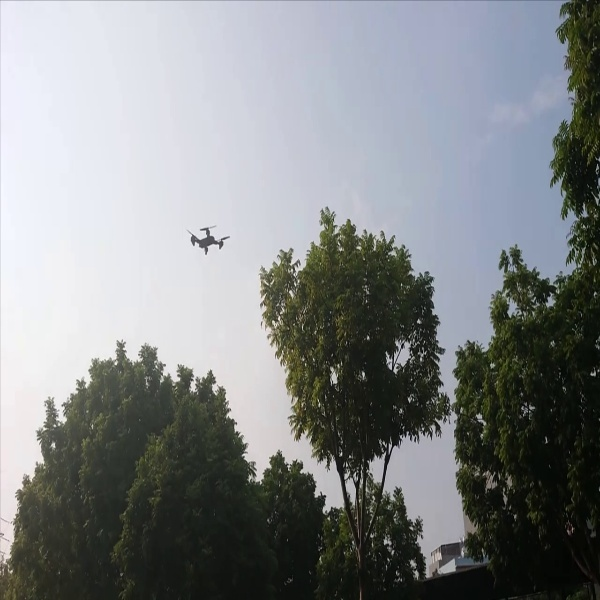drone: (173, 222, 238, 258)
